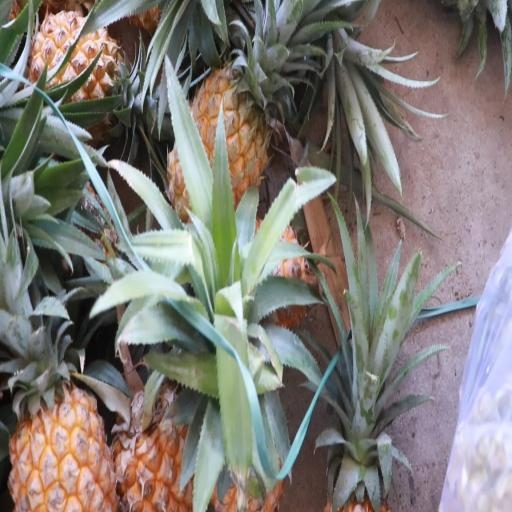Pineapple - v8 v1: (164, 46, 278, 240), (24, 0, 149, 155), (5, 360, 121, 512)
